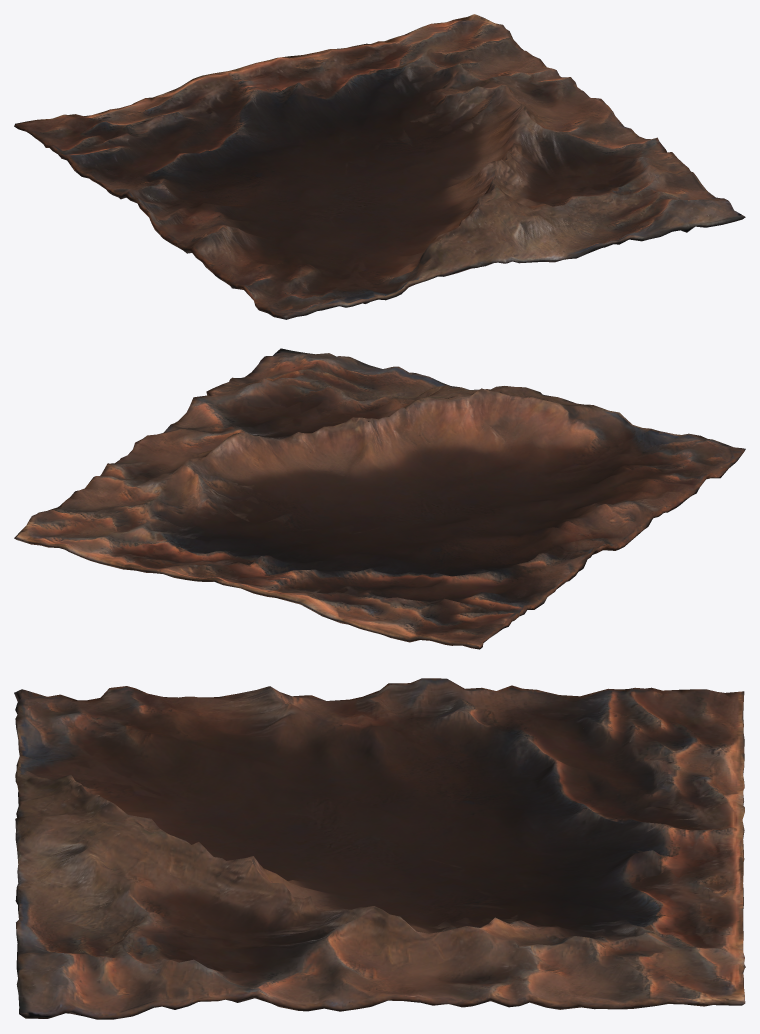
Rendered from high_quality_alien_pl_1009231931_texture.fbx.
The picture shows the model from 3 angles, top to bottom: view 1: azimuth 30°, elevation 25°; view 2: azimuth 150°, elevation 25°; view 3: azimuth 270°, elevation 25°; orthographic projection. The views are drawn at different scales.
Visible parts, largest first — view 1: Mesh1.0; view 2: Mesh1.0; view 3: Mesh1.0.
Part boxes in pixels (bbox=[...]): Mesh1.0: bbox=[14, 14, 745, 319]; Mesh1.0: bbox=[14, 348, 745, 649]; Mesh1.0: bbox=[14, 678, 745, 1019].
Bounding box in the file's own units: 203 × 22.34 × 202.
Materials: 1 (1 with a texture image).
